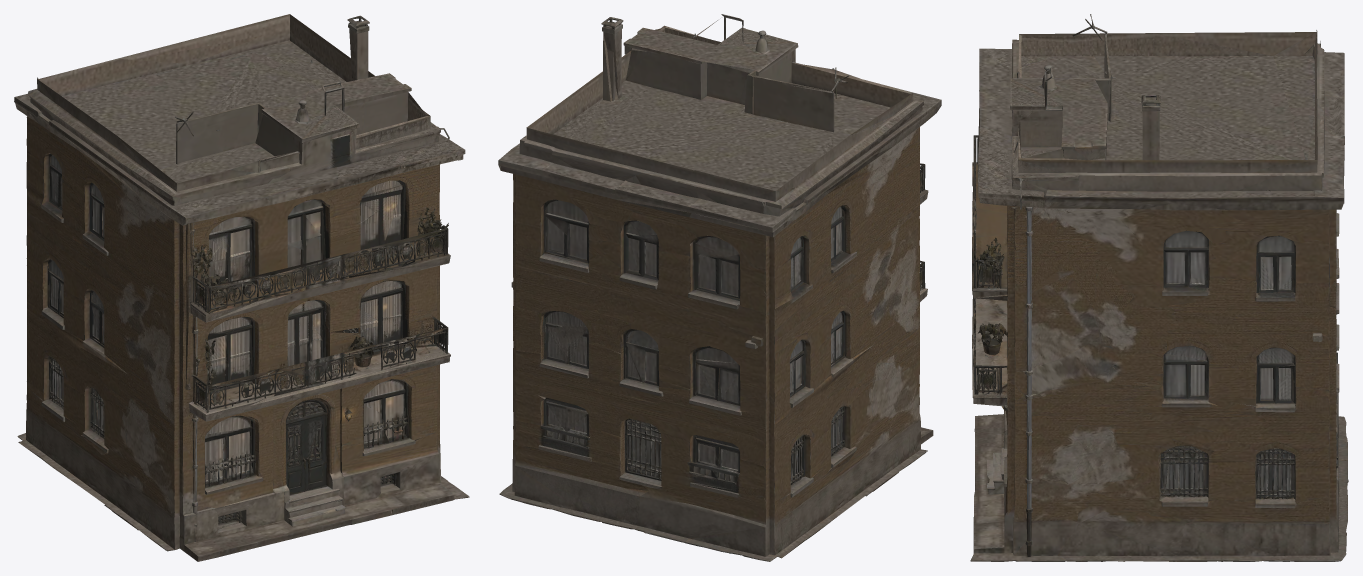
The picture shows the model from 3 angles, left to right: view 1: azimuth 30°, elevation 25°; view 2: azimuth 150°, elevation 25°; view 3: azimuth 270°, elevation 25°; orthographic projection. The views are drawn at different scales.
Visible parts, largest first — view 1: Mesh_0; view 2: Mesh_0; view 3: Mesh_0.
Part boxes in pixels (<box>): Mesh_0: <box>14,14,469,561</box>; Mesh_0: <box>498,14,941,561</box>; Mesh_0: <box>970,14,1348,561</box>.
Bounding box in the file's own units: 1.35 × 1.9 × 1.45.
Materials: 1 (1 with a texture image).
